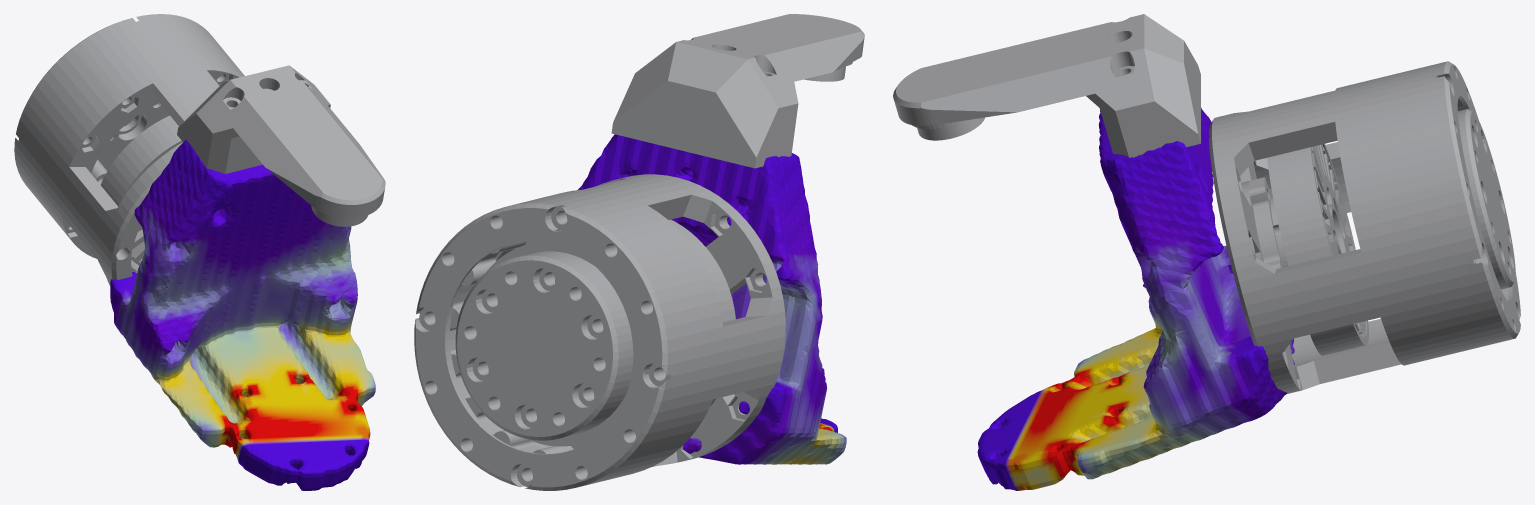
File: arm_left_elbow_pitch_opt.glb
The picture shows the model from 3 angles, left to right: view 1: azimuth 30°, elevation 25°; view 2: azimuth 150°, elevation 25°; view 3: azimuth 270°, elevation 25°; orthographic projection. The views are drawn at different scales.
Parts seen in each view (by area): view 1: arm_left_elbow_pitch_visual.stl; view 2: arm_left_elbow_pitch_visual.stl; view 3: arm_left_elbow_pitch_visual.stl.
Boxes of the visible parts, x1,y1,x2,y2 form: arm_left_elbow_pitch_visual.stl: [14, 14, 385, 490]; arm_left_elbow_pitch_visual.stl: [414, 14, 864, 490]; arm_left_elbow_pitch_visual.stl: [893, 14, 1520, 490].
Bounding box in the file's own units: 0.0709 × 0.1194 × 0.1539.
